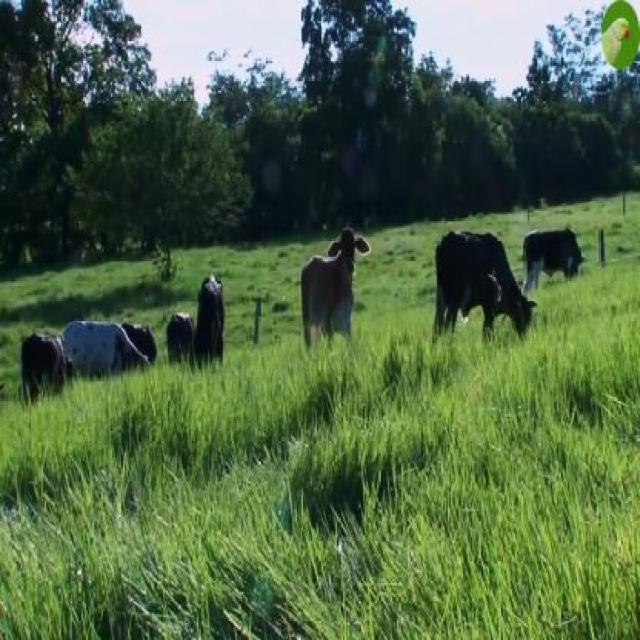Cow: (436, 231, 536, 363), (300, 223, 369, 349)
